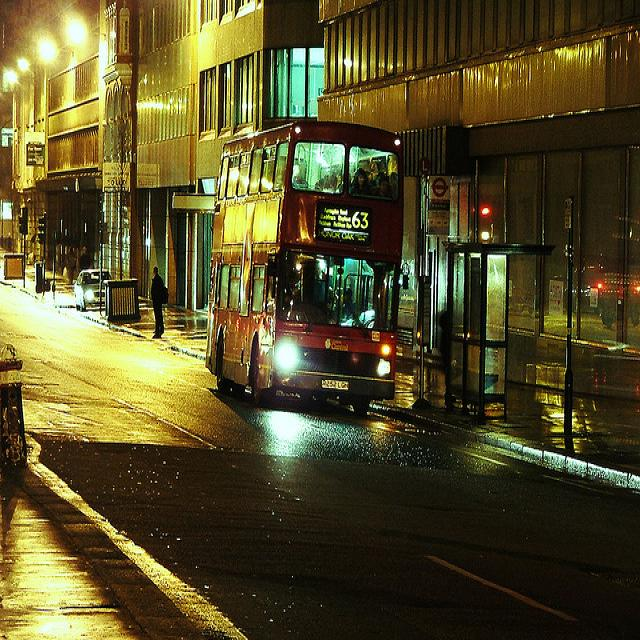Bus: (208, 101, 409, 438)
People: (146, 246, 180, 355)
car: (72, 230, 110, 345)
